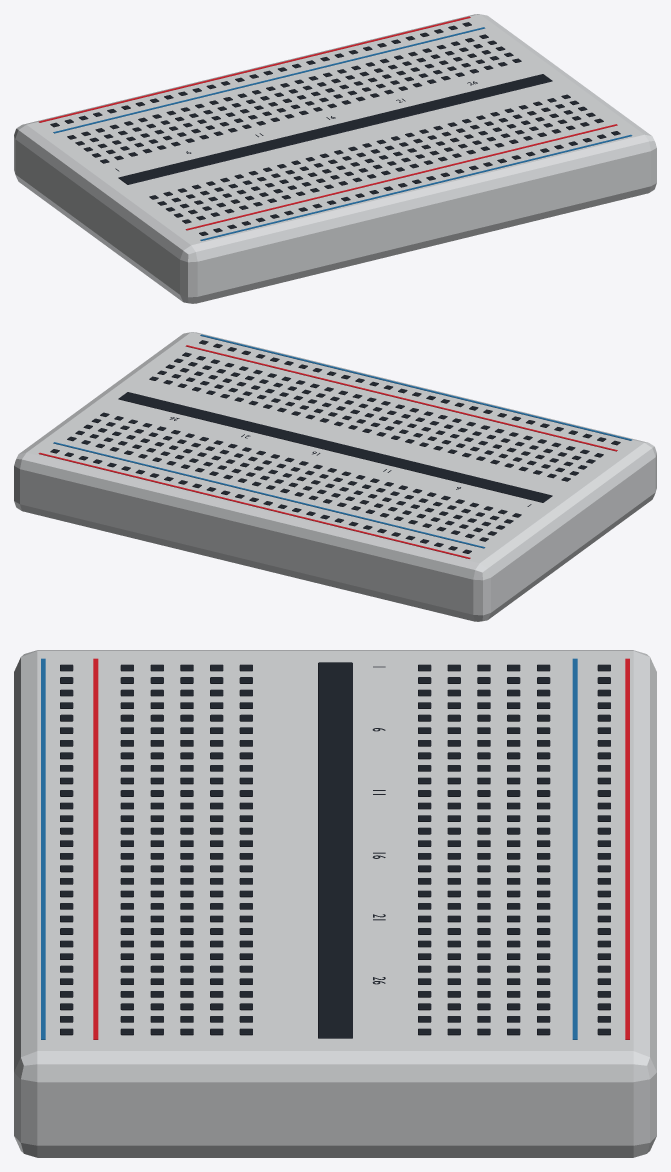
File: breadboard.glb
3 views of the same model, one above another, from view 1: azimuth 30°, elevation 25°; view 2: azimuth 150°, elevation 25°; view 3: azimuth 270°, elevation 25° (orthographic). The views are drawn at different scales.
Parts seen in each view (by area): view 1: Static body • white, Static body • black, Static body • red, Static body • blue; view 2: Static body • white, Static body • black, Static body • blue, Static body • red; view 3: Static body • white, Static body • black, Static body • blue, Static body • red.
Part boxes in pixels (left/top/right/bottom): Static body • white: left=14, top=14, right=656, bottom=303; Static body • black: left=50, top=22, right=620, bottom=235; Static body • red: left=39, top=16, right=617, bottom=230; Static body • blue: left=53, top=27, right=632, bottom=240; Static body • white: left=14, top=332, right=656, bottom=621; Static body • black: left=50, top=340, right=620, bottom=553; Static body • blue: left=53, top=334, right=631, bottom=548; Static body • red: left=38, top=345, right=617, bottom=558; Static body • white: left=14, top=650, right=656, bottom=1157; Static body • black: left=60, top=662, right=610, bottom=1038; Static body • blue: left=41, top=658, right=577, bottom=1039; Static body • red: left=93, top=658, right=629, bottom=1039.
Size of the model in its own units: 85 by 10.2 by 55.
